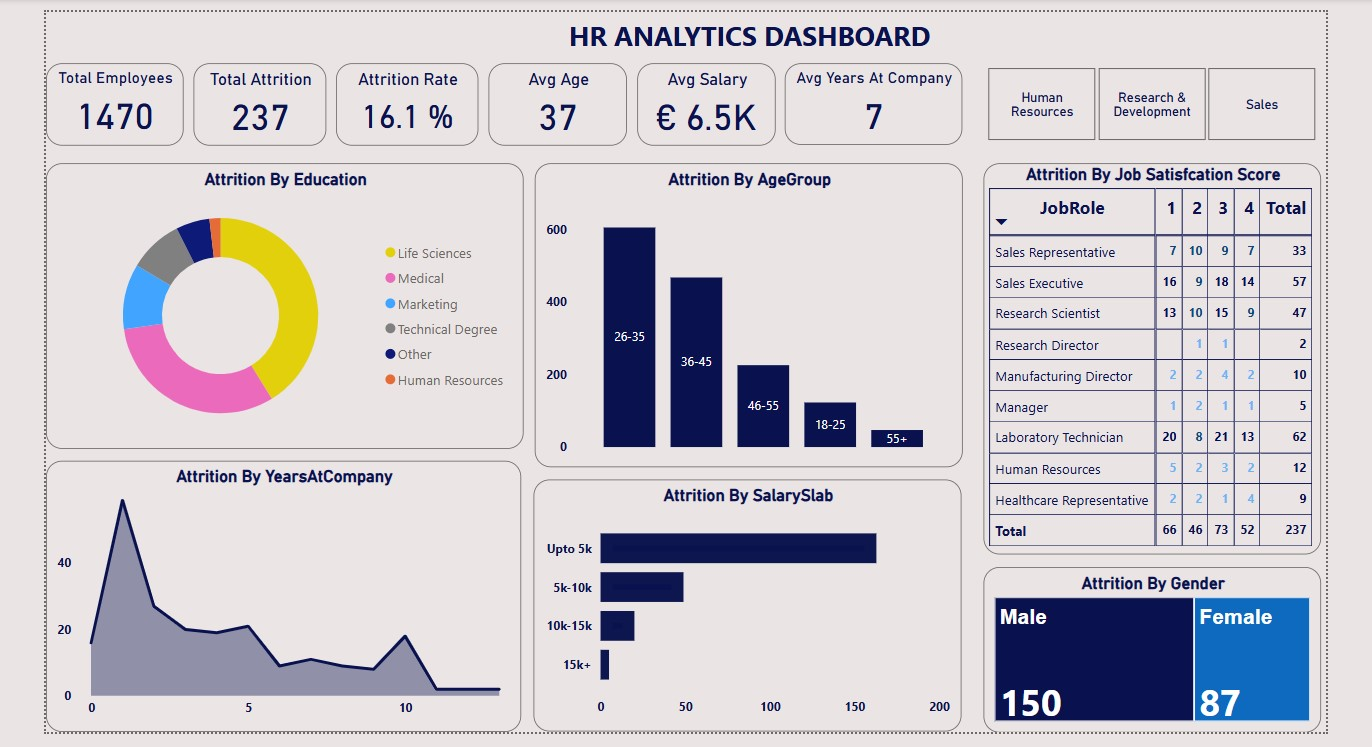

This screenshot's page, from the dashboard's own definition file:
{"tool":"powerbi","page":{"name":"Page 1","canvas":[1280,720],"ordinal":0},"visuals":[{"type":"donutChart","title":" Attrition By Education","fields":{"Category":["HR_Analytics.EducationField"],"Y":["CountNonNull(HR_Analytics.Attrition)"]},"box":[0,150.8,477.8,285.9],"z":0},{"type":"areaChart","title":"Attrition By YearsAtCompany","fields":{"Category":["HR_Analytics.YearsAtCompany"],"Y":["CountNonNull(HR_Analytics.Attrition)"]},"box":[0,448.8,475.3,271.4],"z":1000},{"type":"columnChart","title":" Attrition By AgeGroup","fields":{"Category":["HR_Analytics.AgeGroup"],"Y":["CountNonNull(HR_Analytics.Attrition)"]},"box":[488.6,150.8,428.3,304],"z":2000},{"type":"barChart","title":"Attrition By SalarySlab","fields":{"Category":["HR_Analytics.SalarySlab"],"Y":["CountNonNull(HR_Analytics.Attrition)"]},"box":[487.4,468.1,428.3,252.1],"z":3000},{"type":"treemap","title":"Attrition By Gender","fields":{"Details":["HR_Analytics.Gender"],"Values":["CountNonNull(HR_Analytics.Attrition)"]},"box":[937.4,555,337.8,165.3],"z":4000},{"type":"pivotTable","title":"Attrition By Job Satisfcation Score","fields":{"Rows":["HR_Analytics.JobRole"],"Columns":["HR_Analytics.JobSatisfaction"],"Values":["CountNonNull(HR_Analytics.Attrition)"]},"box":[937.4,150.8,337.8,390.9],"z":5000},{"type":"advancedSlicerVisual","fields":{"Values":["HR_Analytics.Department"]},"box":[937.4,50.7,337.8,82],"z":6000},{"type":"card","title":"Total Employees","fields":{"Values":["Count(HR_Analytics.EmpID)"]},"box":[0,50.7,137.5,82],"z":7000},{"type":"card","title":"Total Attrition","fields":{"Values":["CountNonNull(HR_Analytics.Attrition)"]},"box":[147.2,50.7,132.7,82],"z":8000},{"type":"card","title":"Attrition Rate","fields":{"Values":["Count(HR_Analytics.Attrition)","HR_Analytics.Attrition Rate","Min(HR_Analytics.Attrition)1"]},"box":[289.5,50.7,142.4,82],"z":9000},{"type":"card","title":"Avg Age","fields":{"Values":["Avg(HR_Analytics.Age)"]},"box":[442.8,50.7,138.7,82],"z":10000},{"type":"card","title":"Avg Salary","fields":{"Values":["Avg(HR_Analytics.MonthlyIncome)"]},"box":[591.2,50.7,138.7,82],"z":11000},{"type":"card","title":"Avg Years At Company","fields":{"Values":["Avg(HR_Analytics.YearsAtCompany)"]},"box":[738.6,50.9,177.5,81.9],"z":12000},{"type":"textbox","box":[477.2,0,451.9,50.6],"z":13000}]}

Visuals, with their boxes on the page's 1280x720 design canvas (x1, y1, x2, y2). These are canvas units, not pixel positions in the 1372x747 screenshot, which may show the page scaled, cropped or inside an application window:
" Attrition By Education" donutChart: [x1=0, y1=151, x2=478, y2=437]
"Attrition By YearsAtCompany" areaChart: [x1=0, y1=449, x2=475, y2=720]
" Attrition By AgeGroup" columnChart: [x1=489, y1=151, x2=917, y2=455]
"Attrition By SalarySlab" barChart: [x1=487, y1=468, x2=916, y2=720]
"Attrition By Gender" treemap: [x1=937, y1=555, x2=1275, y2=720]
"Attrition By Job Satisfcation Score" pivotTable: [x1=937, y1=151, x2=1275, y2=542]
advancedSlicerVisual - HR_Analytics.Department: [x1=937, y1=51, x2=1275, y2=133]
"Total Employees" card: [x1=0, y1=51, x2=138, y2=133]
"Total Attrition" card: [x1=147, y1=51, x2=280, y2=133]
"Attrition Rate" card: [x1=290, y1=51, x2=432, y2=133]
"Avg Age" card: [x1=443, y1=51, x2=582, y2=133]
"Avg Salary" card: [x1=591, y1=51, x2=730, y2=133]
"Avg Years At Company" card: [x1=739, y1=51, x2=916, y2=133]
textbox: [x1=477, y1=0, x2=929, y2=51]
